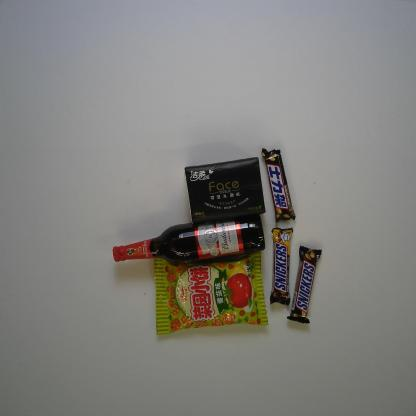Alcohol: (112, 210, 267, 268)
Chocolate: (286, 244, 322, 324), (260, 147, 296, 224), (269, 226, 294, 307)
Puffed Food: (152, 251, 269, 335)
Tissue: (183, 157, 267, 225)
